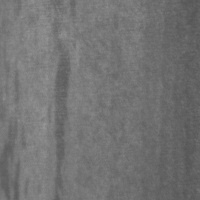inclusion: (47, 20, 73, 199), (0, 108, 27, 199), (7, 51, 24, 119)
